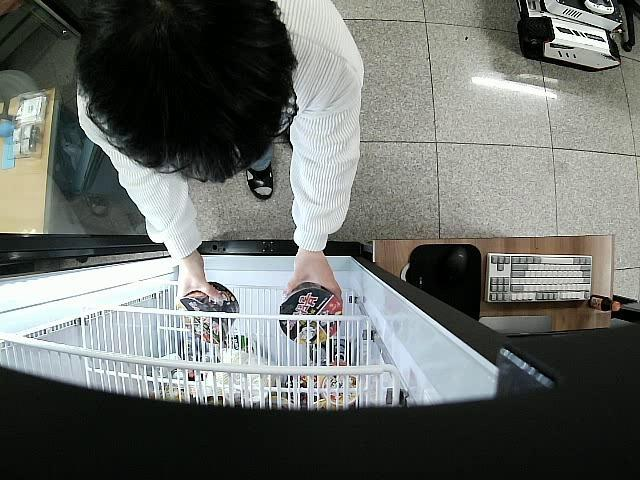07_buldak_L: (278, 282, 344, 346), (178, 279, 241, 345)
